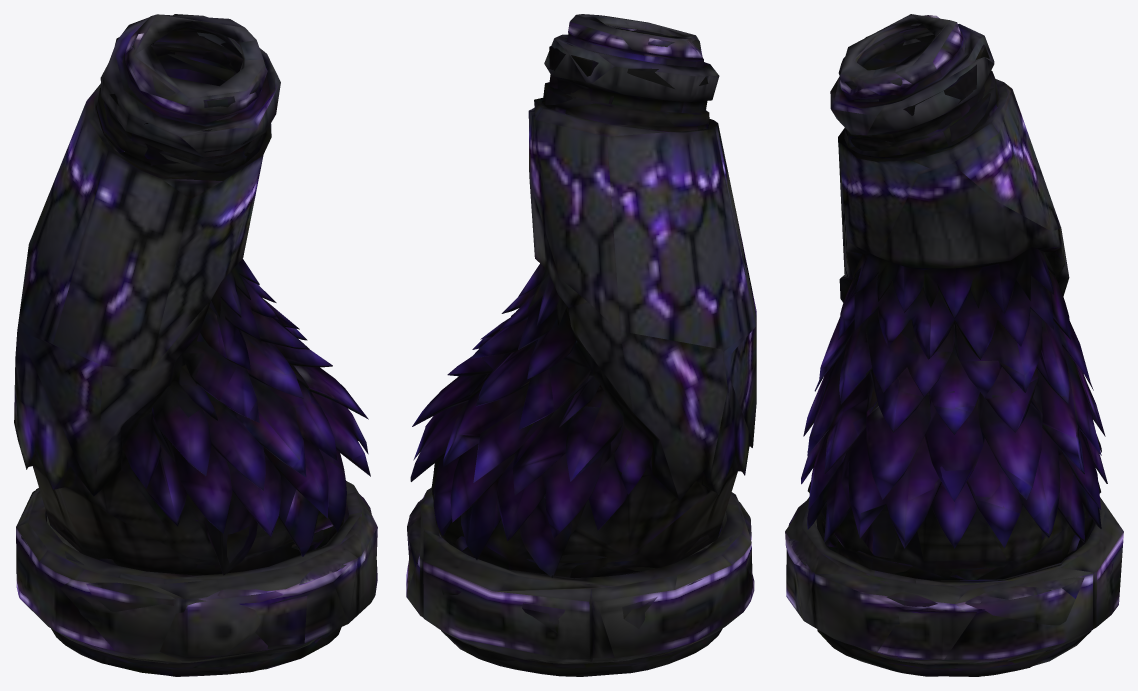
Rendered from nostrich01_neck_thick_bottom.glb.
3 renders of one model, left to right at view 1: azimuth 30°, elevation 25°; view 2: azimuth 150°, elevation 25°; view 3: azimuth 270°, elevation 25°, orthographic. The views are drawn at different scales.
Parts seen in each view (by area): view 1: material; view 2: material; view 3: material.
Boxes of the visible parts, x1,y1,x2,y2 form: material: (14, 14, 377, 676); material: (406, 14, 756, 676); material: (785, 14, 1123, 676).
Bounding box in the file's own units: 0.6045 × 1.09 × 0.5788.
1 material, 1 textured.
